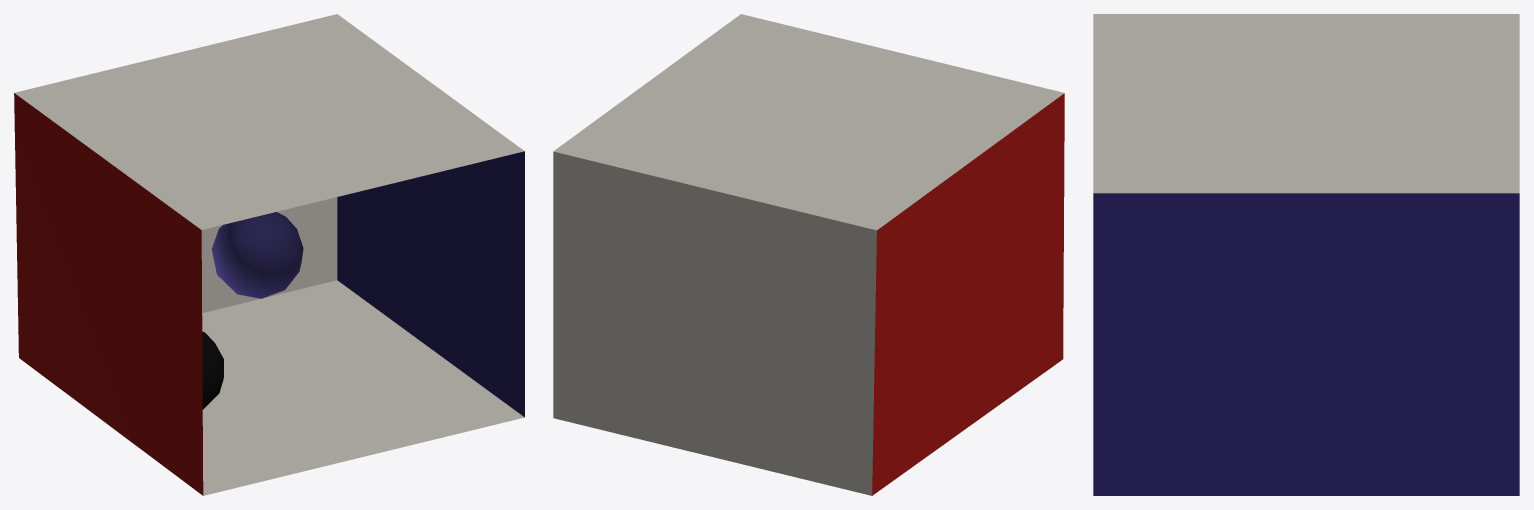
File: CornellBox-Sphere-388.obj
The picture shows the model from 3 angles, left to right: view 1: azimuth 30°, elevation 25°; view 2: azimuth 150°, elevation 25°; view 3: azimuth 270°, elevation 25°; orthographic projection. The views are drawn at different scales.
Parts seen in each view (by area): view 1: ceiling, leftWall, floor, rightWall, leftSphere, backWall, rightSphere; view 2: backWall, ceiling, leftWall; view 3: rightWall, ceiling.
Part boxes in pixels (bbox=[...]): ceiling: bbox=[14, 14, 524, 229]; leftWall: bbox=[14, 93, 203, 495]; floor: bbox=[202, 280, 524, 495]; rightWall: bbox=[337, 151, 524, 417]; leftSphere: bbox=[211, 212, 303, 298]; backWall: bbox=[201, 197, 337, 312]; rightSphere: bbox=[202, 331, 223, 409]; backWall: bbox=[553, 151, 876, 495]; ceiling: bbox=[553, 14, 1064, 230]; leftWall: bbox=[872, 93, 1064, 495]; rightWall: bbox=[1093, 193, 1519, 495]; ceiling: bbox=[1093, 14, 1519, 193].
Size of the model in its own units: 2.02 by 1.59 by 2.03.
